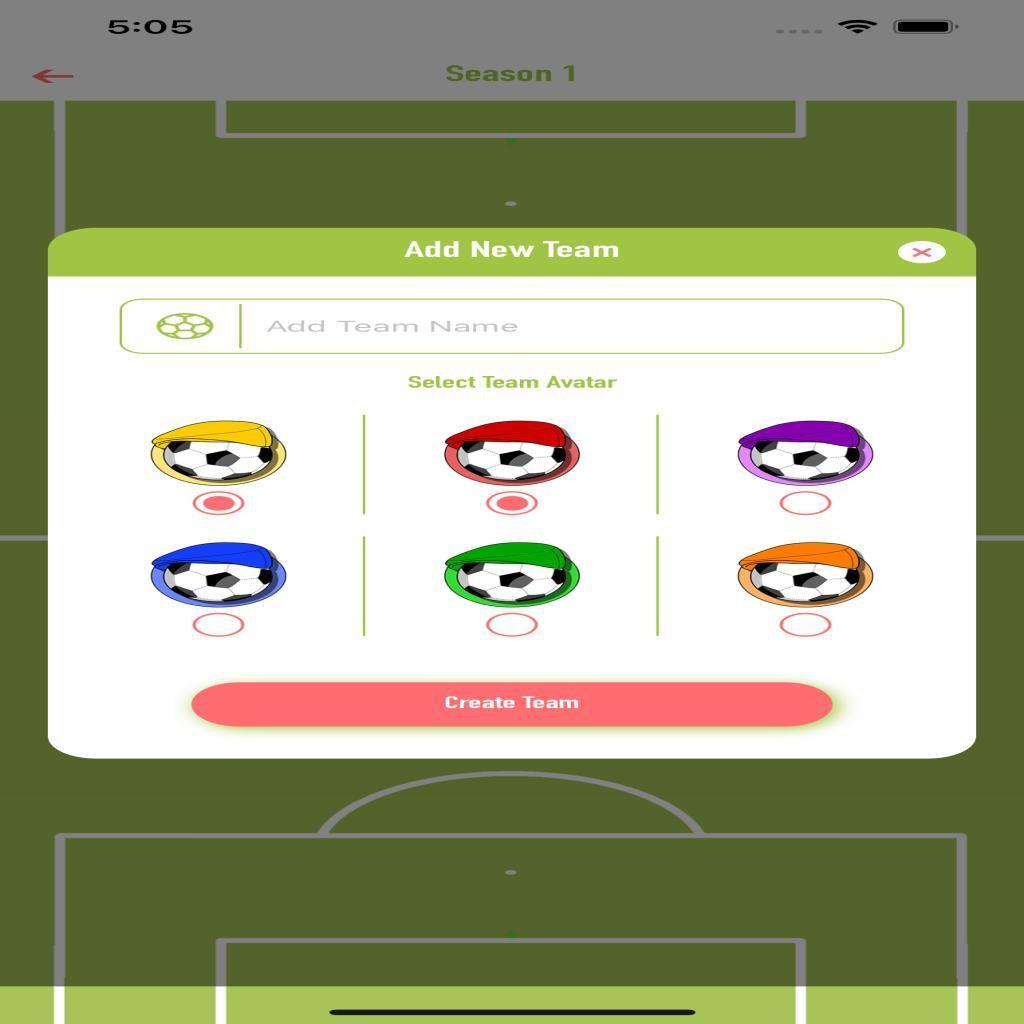button: (195, 679, 838, 735)
input: (240, 301, 905, 353)
radio: (183, 610, 267, 642), (773, 612, 844, 645), (476, 610, 548, 641), (187, 488, 257, 519), (480, 489, 548, 517), (775, 491, 845, 518)
